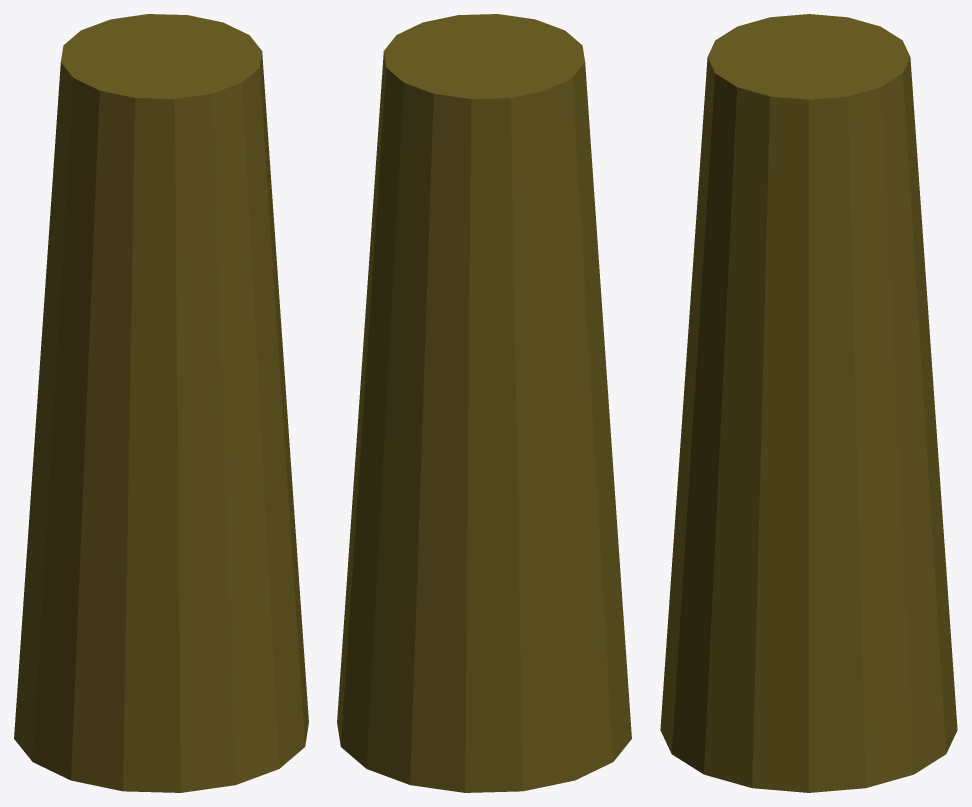
File: brush_tip.dae
The picture shows the model from 3 angles, left to right: view 1: azimuth 30°, elevation 25°; view 2: azimuth 150°, elevation 25°; view 3: azimuth 270°, elevation 25°; orthographic projection.
Visible parts, largest first — view 1: brush_tip; view 2: brush_tip; view 3: brush_tip.
Boxes of the visible parts, x1=… form: brush_tip: x1=14, y1=14, x2=308, y2=792; brush_tip: x1=337, y1=14, x2=631, y2=792; brush_tip: x1=660, y1=14, x2=957, y2=792.
Size of the model in its own units: 0.02 by 0.02 by 0.05.
